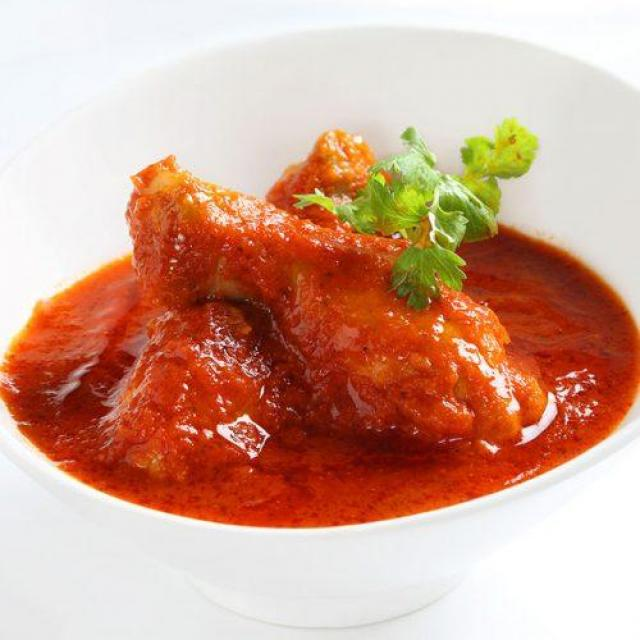chicken: (44, 147, 601, 503)
